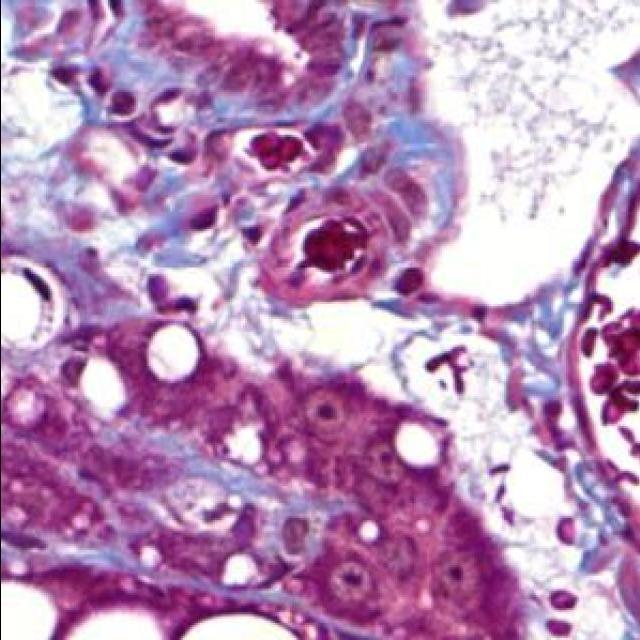steatosis: (0, 582, 55, 640), (146, 324, 198, 381), (79, 356, 126, 419), (180, 614, 297, 639), (66, 610, 161, 640), (395, 422, 439, 468), (220, 554, 257, 585)
